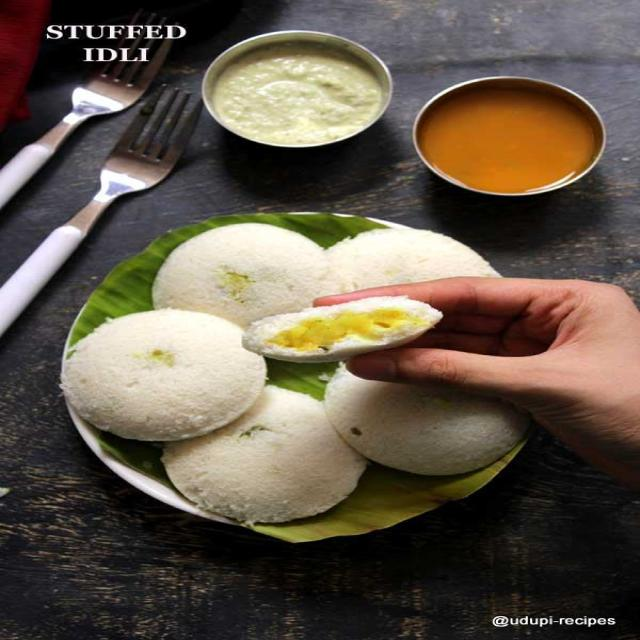chutney: (215, 37, 392, 151)
idli: (165, 381, 358, 521), (74, 316, 252, 444), (169, 221, 336, 346)
